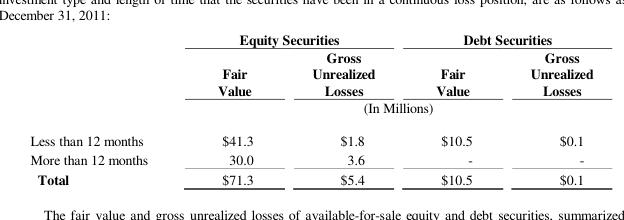table: (29, 29, 592, 188)
table column: (29, 29, 182, 188), (282, 29, 404, 188), (182, 29, 282, 188), (404, 29, 500, 188), (500, 29, 592, 188)
table column header: (29, 29, 592, 123)
table row: (29, 47, 592, 98), (29, 123, 592, 149), (29, 98, 592, 123), (29, 168, 592, 188), (29, 149, 592, 168), (29, 29, 592, 47)
table spanning cell: (182, 98, 592, 123), (182, 29, 404, 47), (404, 29, 592, 47)
